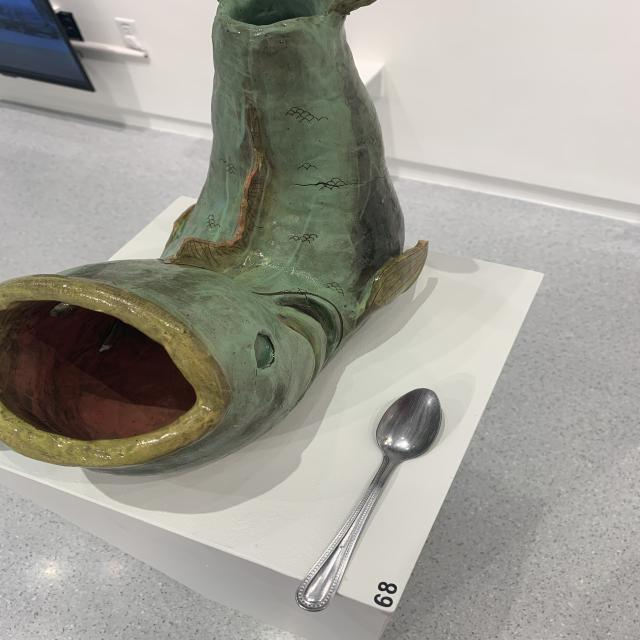Spoon: (276, 386, 475, 614)
